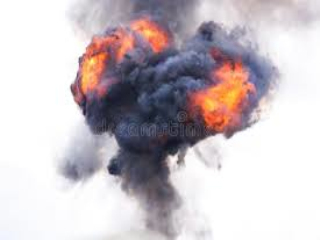smoke: (74, 19, 284, 214)
